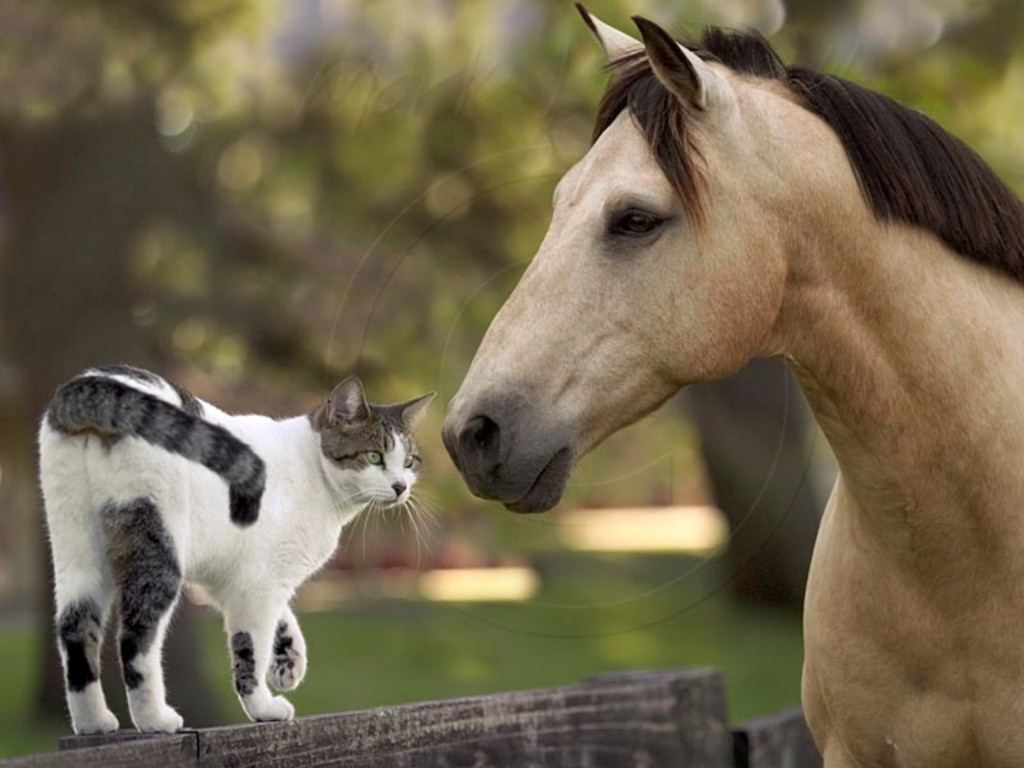Cat: (29, 328, 457, 734)
Horse: (470, 4, 1024, 725)
